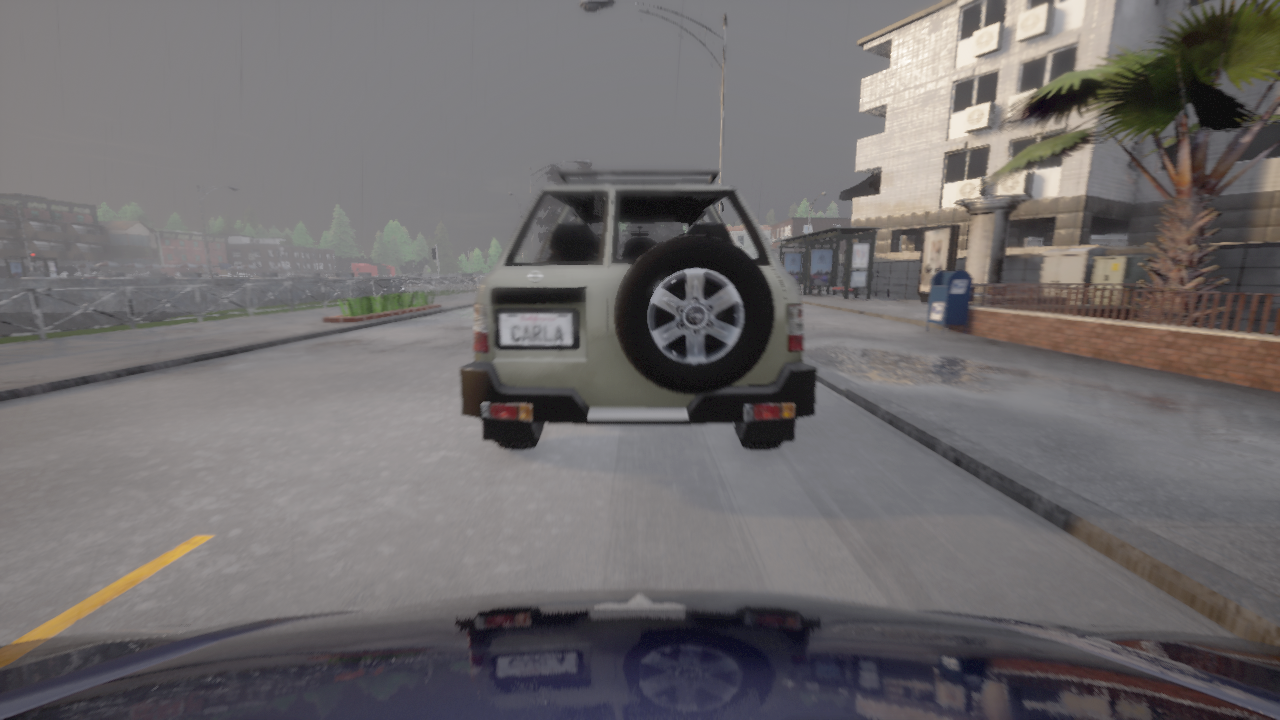cyclist: (0, 588, 1279, 719), (459, 170, 817, 450), (82, 271, 139, 278)
